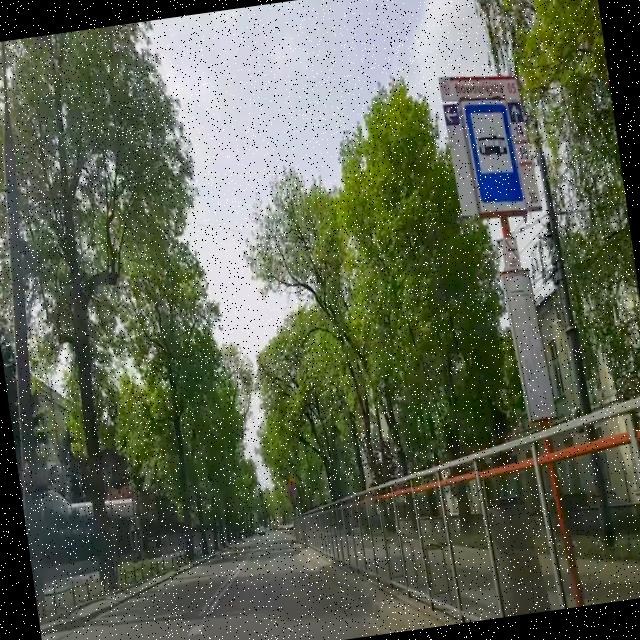Zakaz zatrzymywania sie: (290, 484, 298, 496)
